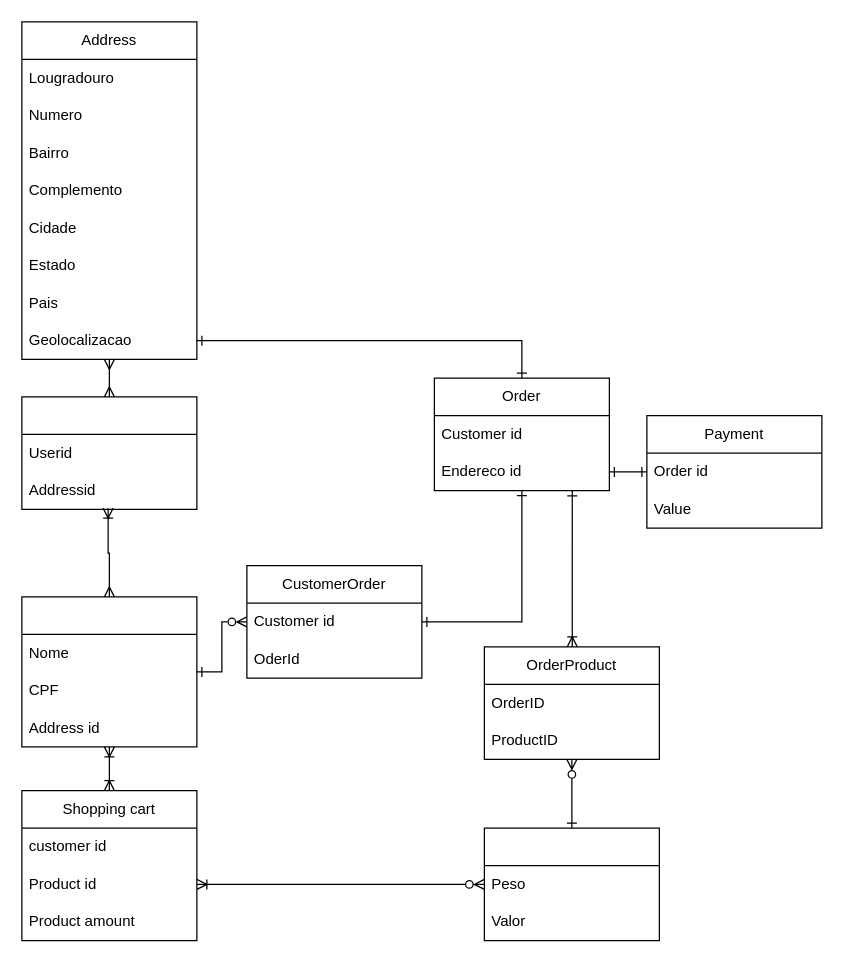
The diagram is 844 pixels wide and 963 high, and some of its shapes have lost their labels. The shapes that lost their labels are listed below. From the top down, each one's box as (x1, y1, x2, y2) in pixels, then its label:
(21, 396, 197, 509): AddressUser
(21, 596, 197, 747): Customer
(483, 827, 659, 941): Product
